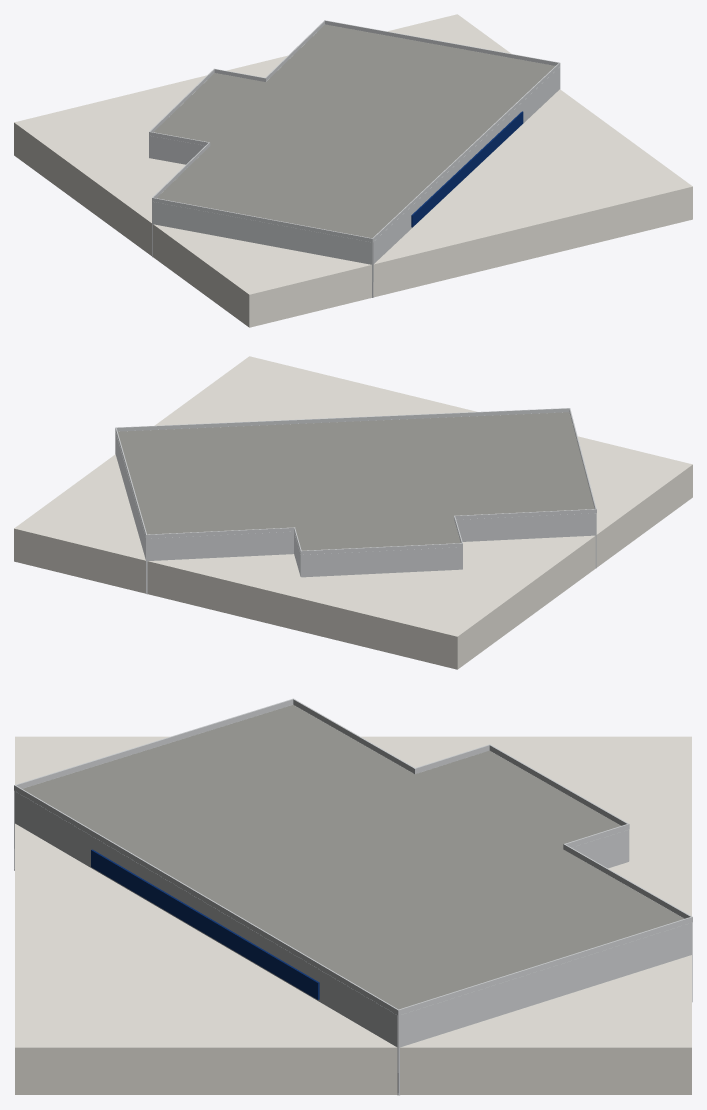
The model's file is lieu_terminal.glb.
The picture shows the model from 3 angles, top to bottom: view 1: azimuth 30°, elevation 25°; view 2: azimuth 150°, elevation 25°; view 3: azimuth 270°, elevation 25°; orthographic projection. The views are drawn at different scales.
Parts seen in each view (by area): view 1: zone_interieur_terminal, terminal_structure-col, terminal_details; view 2: zone_interieur_terminal, terminal_structure-col, terminal_details; view 3: terminal_structure-col, zone_interieur_terminal, terminal_details.
Part boxes in pixels (<box>): zone_interieur_terminal: <box>14,14,692,327</box>; terminal_structure-col: <box>149,24,560,297</box>; terminal_details: <box>149,20,560,295</box>; zone_interieur_terminal: <box>14,356,692,669</box>; terminal_structure-col: <box>115,412,596,594</box>; terminal_details: <box>115,408,596,554</box>; terminal_structure-col: <box>14,704,692,1095</box>; zone_interieur_terminal: <box>15,736,691,1094</box>; terminal_details: <box>14,698,692,1092</box>.
Bounding box in the file's own units: 126 × 16 × 115.
